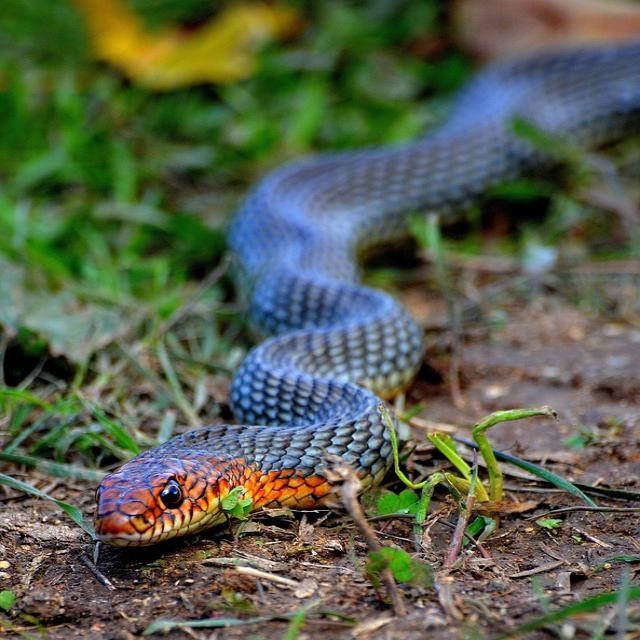Carnivorous: (97, 41, 640, 547)
